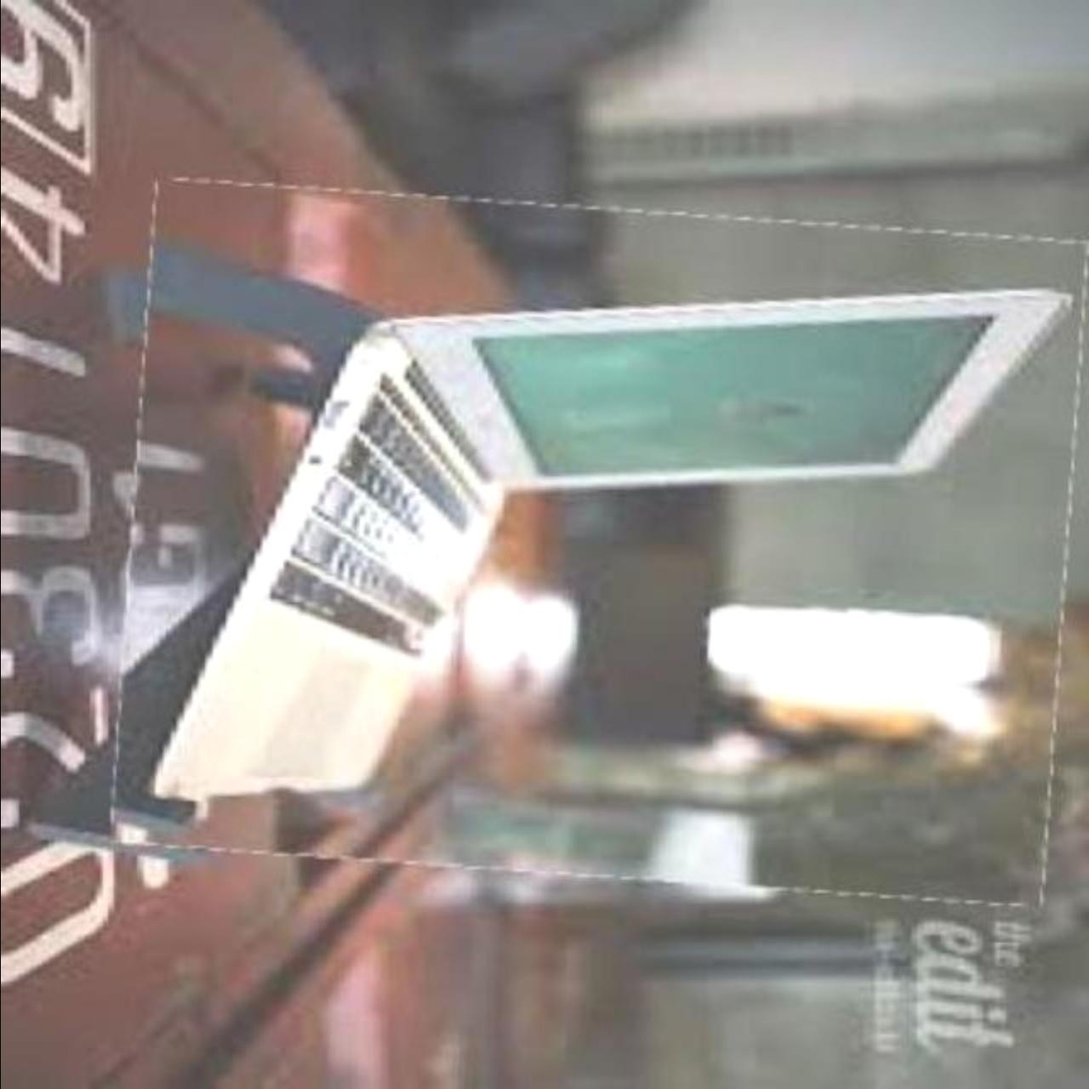laptop: (122, 192, 1076, 890)
